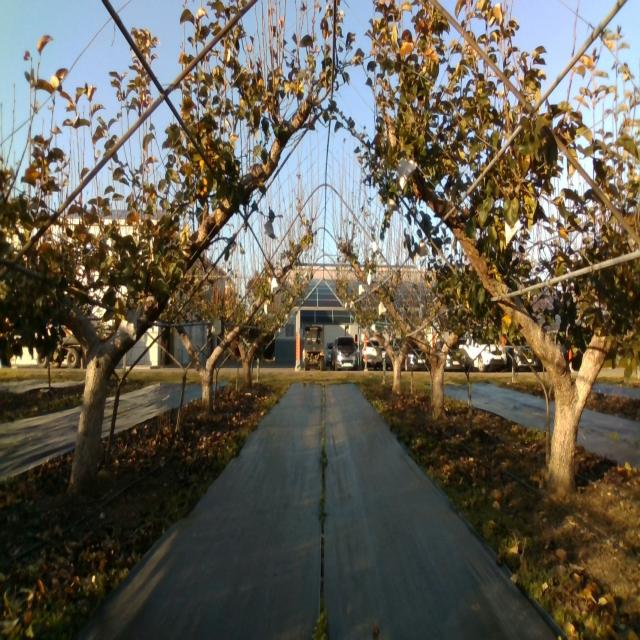pearbags: (396, 158, 418, 190), (120, 310, 137, 341), (505, 220, 521, 247), (264, 221, 276, 239)
